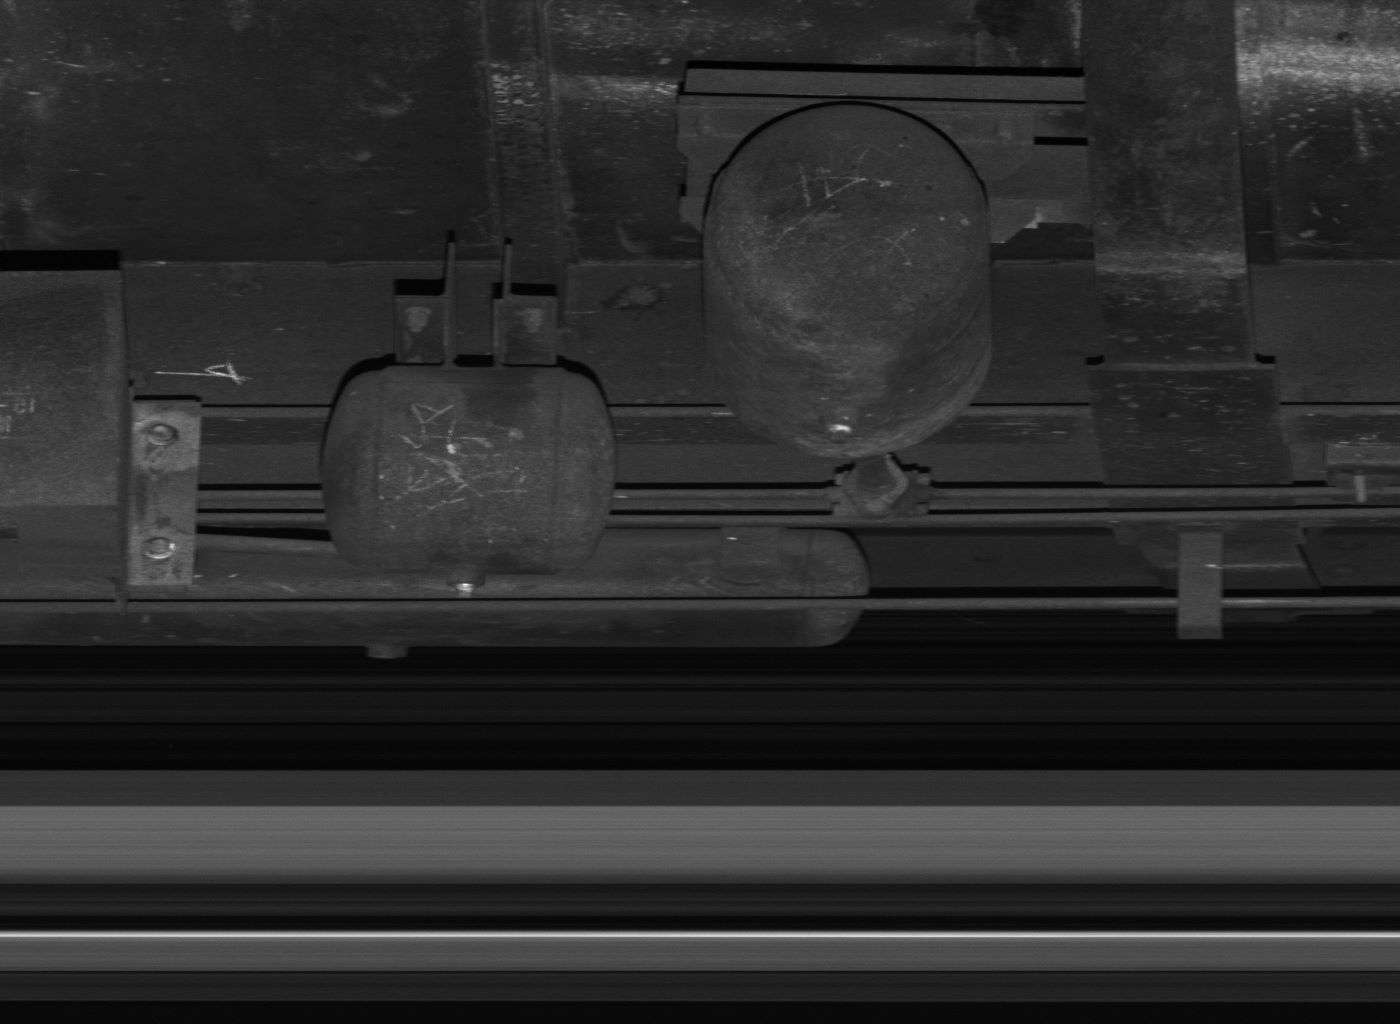normal: (1179, 532, 1228, 641)
